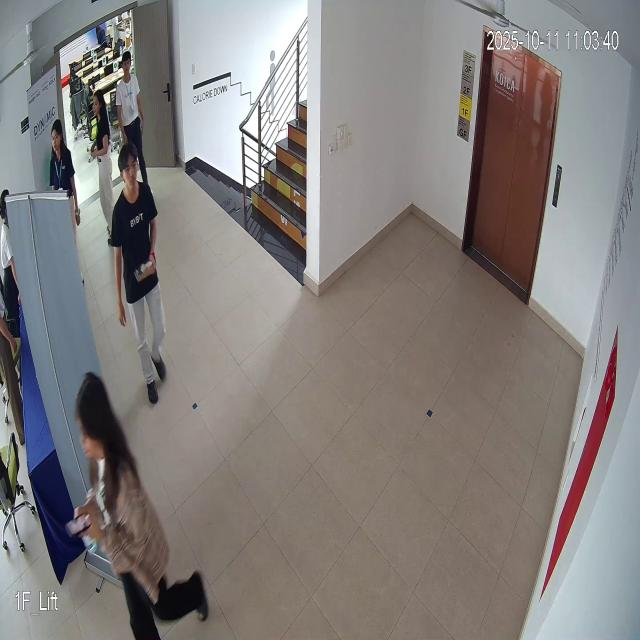face: (116, 131, 142, 201)
